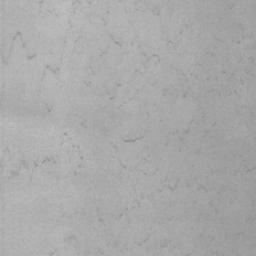Silk spot: (168, 178, 180, 191), (122, 136, 144, 143), (46, 65, 60, 74), (42, 157, 56, 164), (8, 171, 19, 179)
